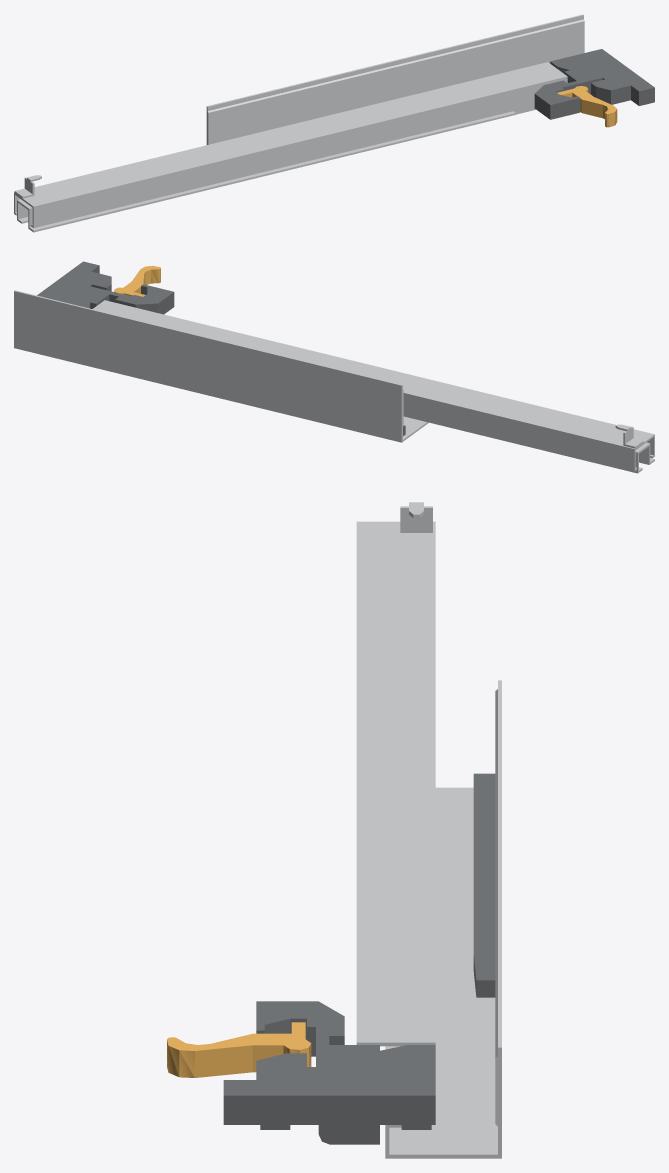
3 views of the same model, one above another, from view 1: azimuth 30°, elevation 25°; view 2: azimuth 150°, elevation 25°; view 3: azimuth 270°, elevation 25° (orthographic). The views are drawn at different scales.
Parts seen in each view (by area): view 1: e372b6660018; view 2: e372b6660018; view 3: e372b6660018.
Part boxes in pixels (x1,y1,x2,y2): e372b6660018: [14, 14, 654, 232]; e372b6660018: [14, 261, 654, 473]; e372b6660018: [167, 502, 501, 1158].
Size of the model in its own units: 500 by 46 by 123.
